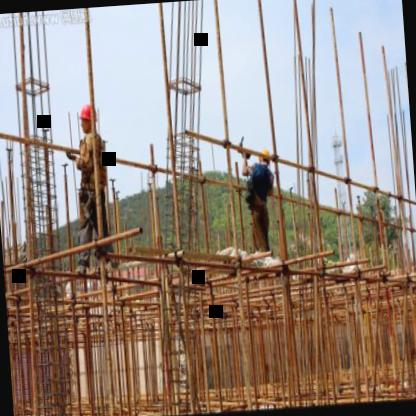helmet: (76, 101, 100, 138), (257, 147, 272, 173)
